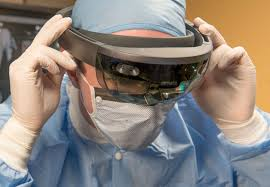hololens: (54, 14, 215, 103)
